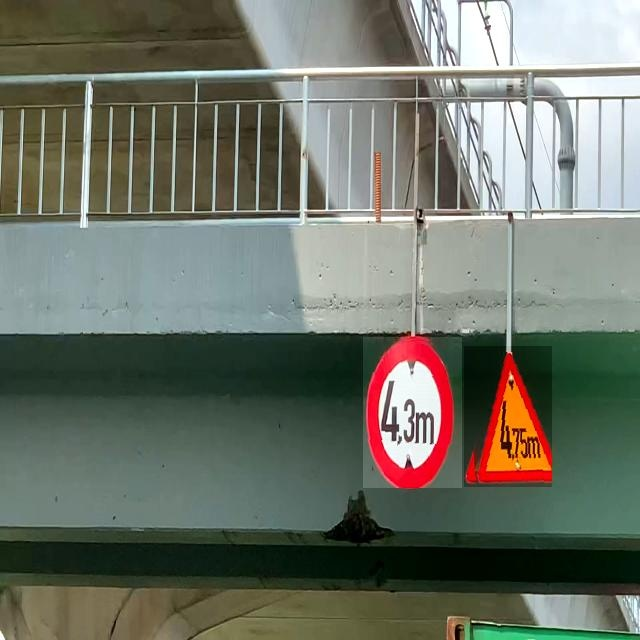bien_cam: (363, 337, 462, 488), (464, 346, 552, 487)
